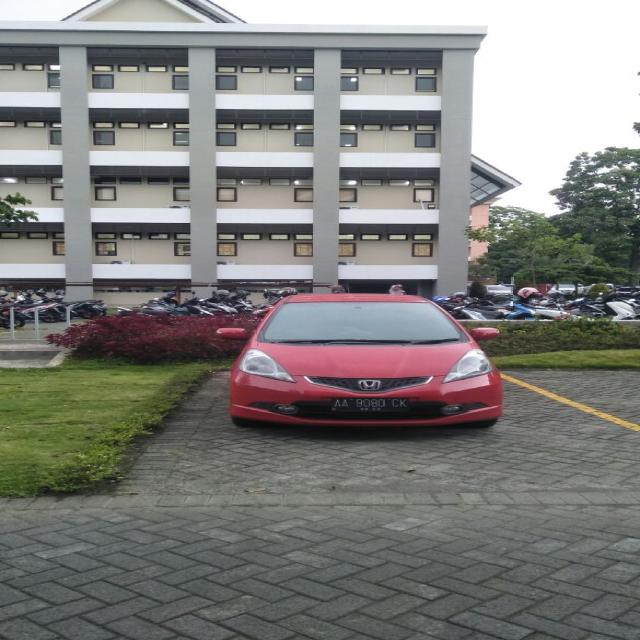plate: (328, 396, 407, 412)
